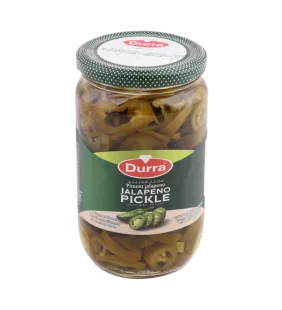DURRA: (68, 20, 220, 284)
